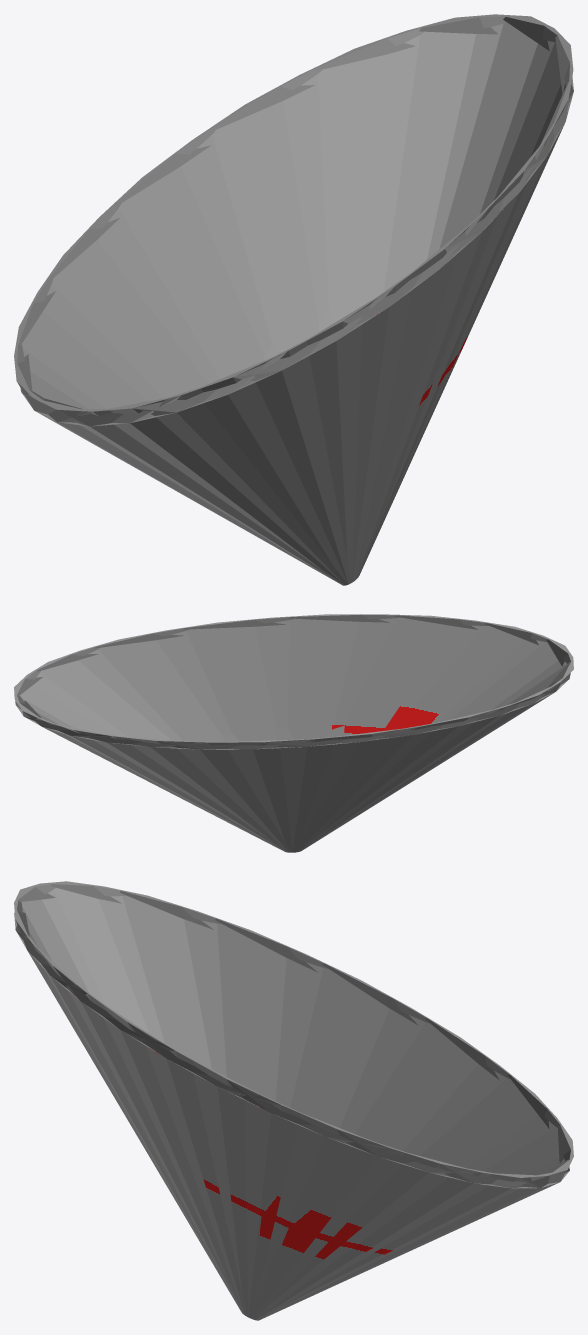
Rendered from blackHole.fbx.
The picture shows the model from 3 angles, top to bottom: view 1: azimuth 30°, elevation 25°; view 2: azimuth 150°, elevation 25°; view 3: azimuth 270°, elevation 25°; orthographic projection. The views are drawn at different scales.
Parts seen in each view (by area): view 1: Cone; view 2: Cone; view 3: Cone.
Part boxes in pixels (x1,y1,x2,y2): Cone: [14, 14, 573, 585]; Cone: [14, 614, 573, 852]; Cone: [14, 881, 573, 1320].
Size of the model in its own units: 761 by 366 by 618.
Materials: 1 (1 with a texture image).
